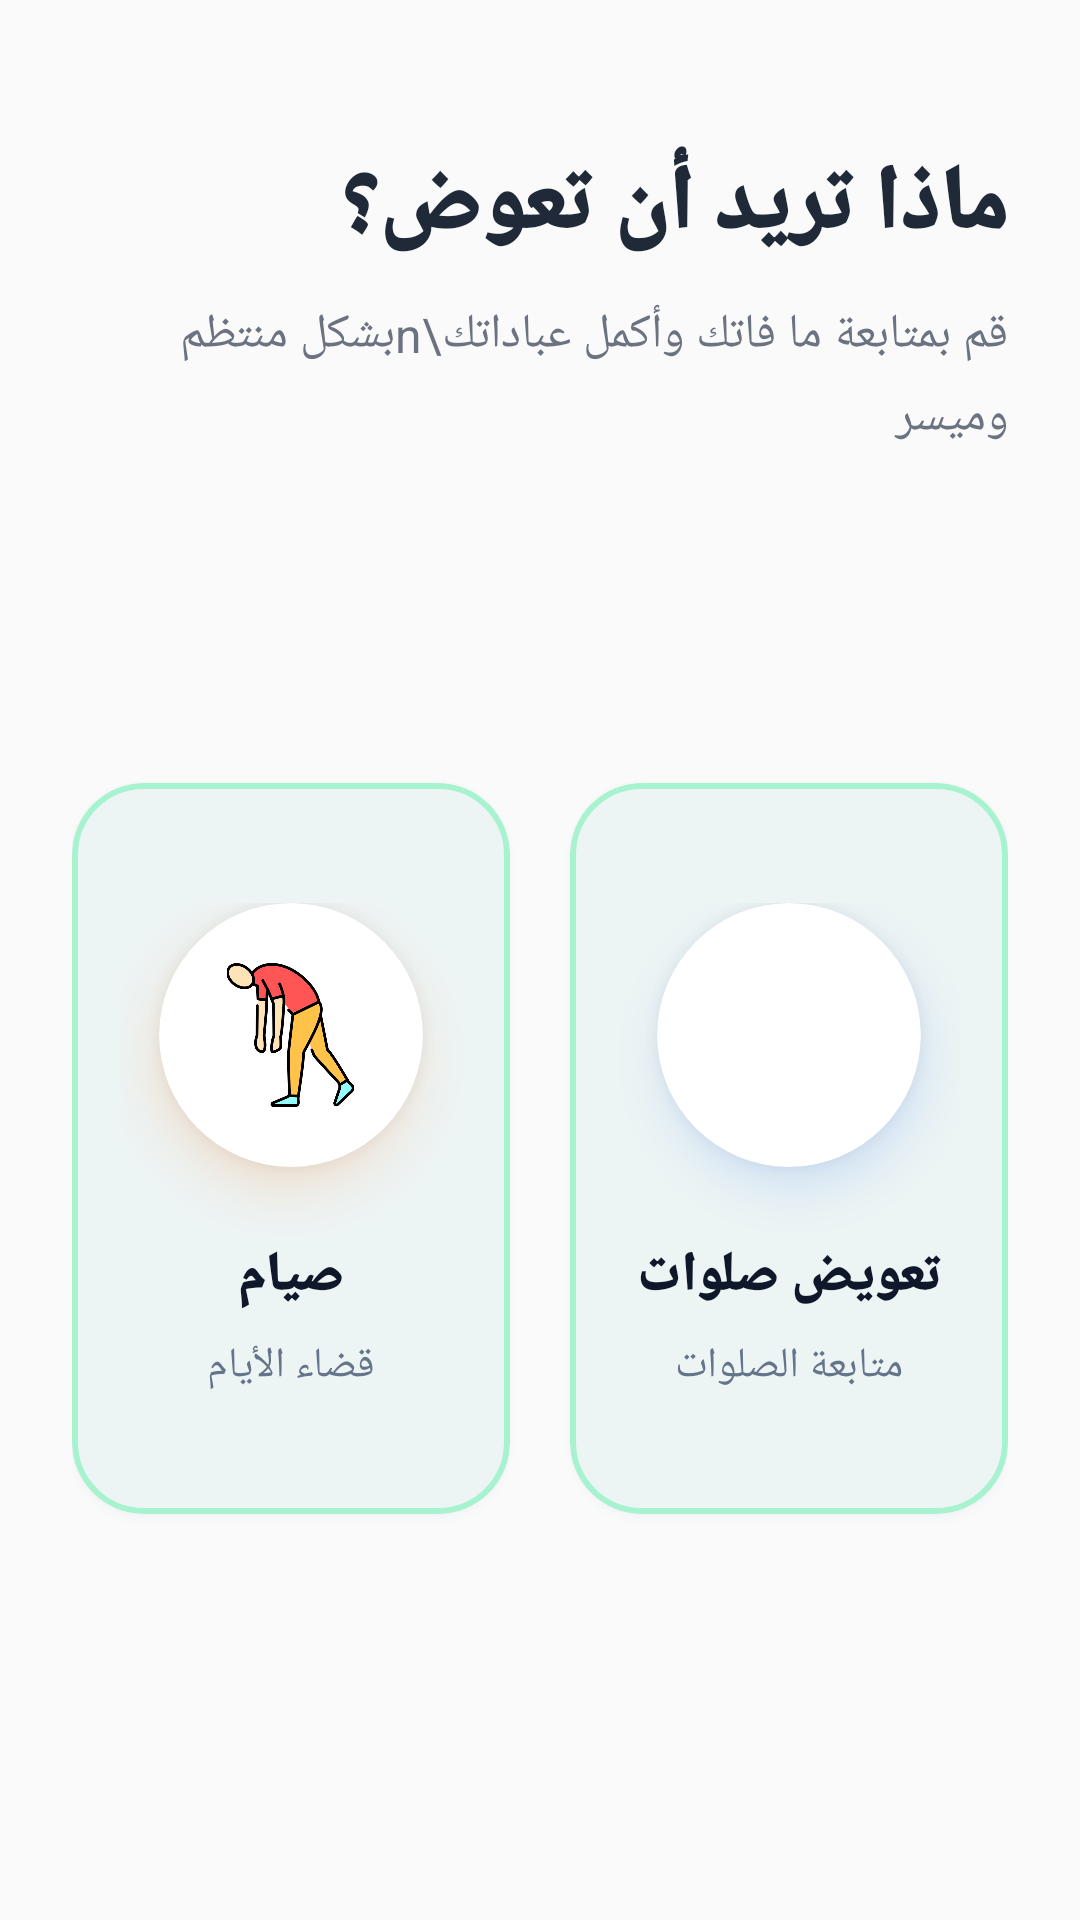

Where icons sit on this 1080 × 1920 app screen, as (x1, y1, x2, y2):
tired: (227, 963, 354, 1107)
